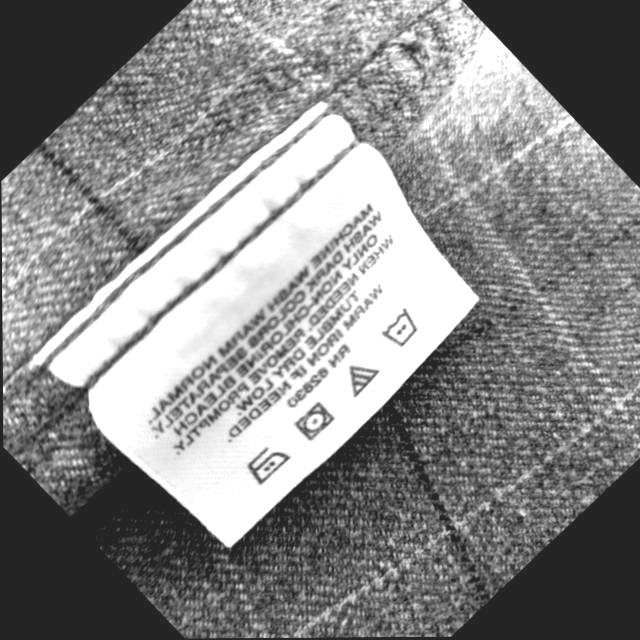40C: (381, 306, 421, 350)
iron_medium: (246, 448, 294, 488)
non_chlorine_bleach: (344, 363, 382, 398)
tumble_dry_low: (297, 402, 337, 441)
